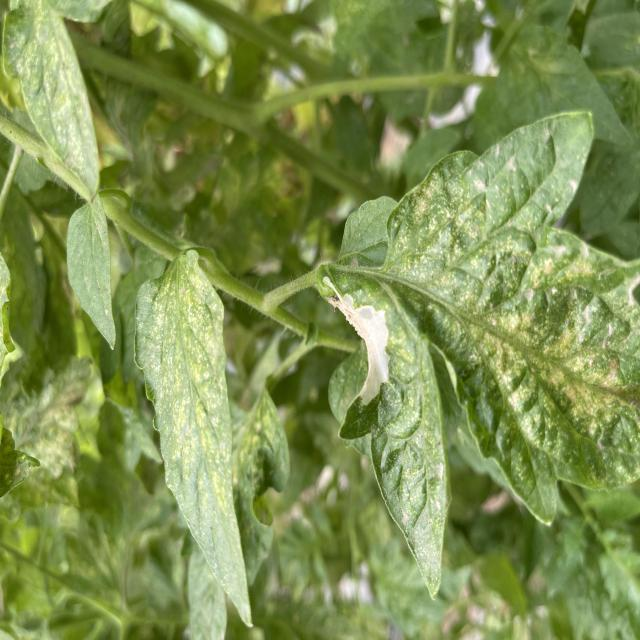Tuta absoluta: (320, 263, 411, 406)
